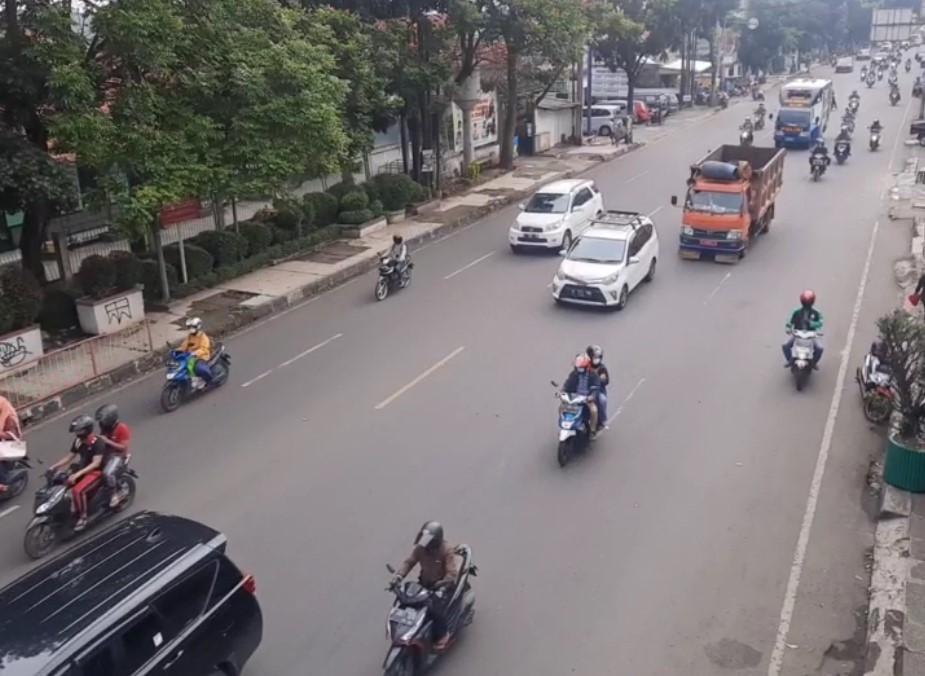motor: (355, 526, 502, 667), (23, 412, 140, 557), (528, 340, 632, 473), (151, 316, 242, 406), (775, 282, 830, 391), (371, 235, 421, 300)
